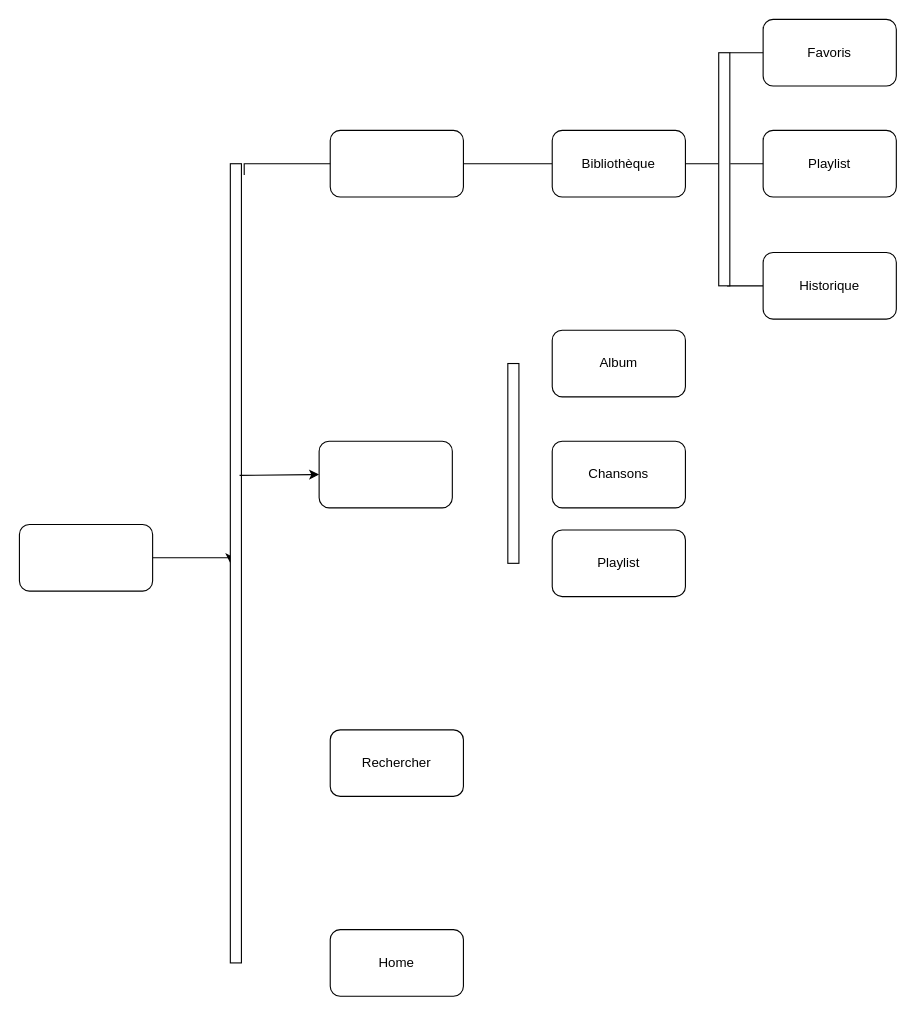
This 916x1016 diagram has some shape labels left out. The shapes that lost their labels are listed below. From the top down, each one's centre as x and y in pixels, then its label:
At (396,163): "Profil".
At (385,474): "Tendance".
At (85,557): "Connexion".
